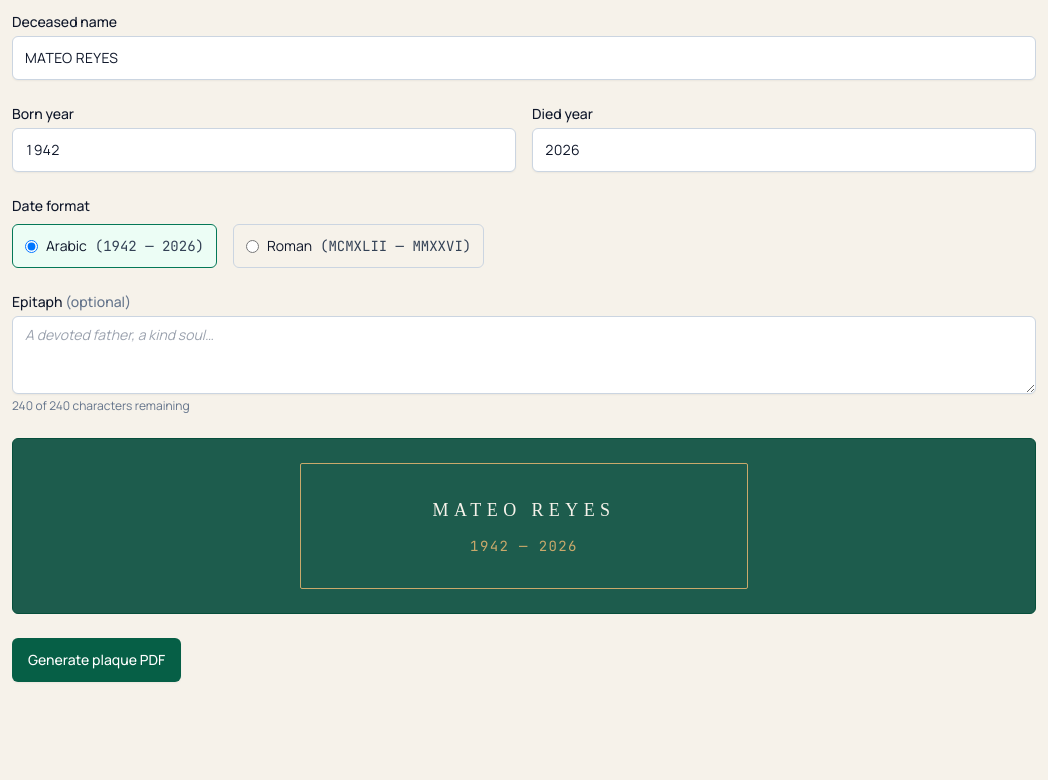
PlaqueForm — submit › surfaces submit errors as inline role=alert without leaving the button stuck
This screenshot has width=1048, height=780.
Click the button with test id "plaque-form-submit" at (97,660), box x1=12 y1=638 x2=181 y2=682
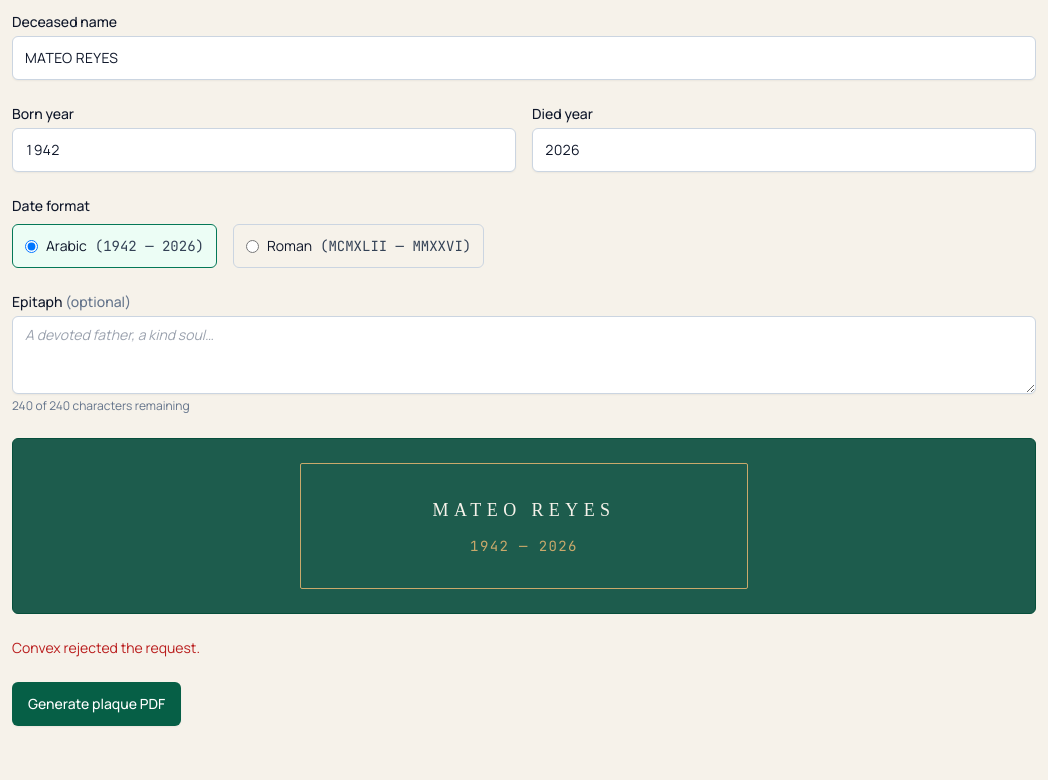
Expected: the button with test id "plaque-form-submit" is enabled, x1=12 y1=682 x2=181 y2=726
Expected: the text "Convex rejected the request." is shown, x1=12 y1=638 x2=200 y2=657
